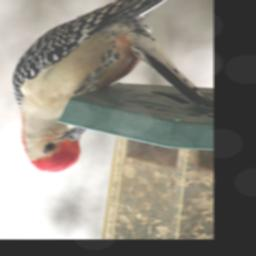Woodpecker: (14, 0, 189, 173)
